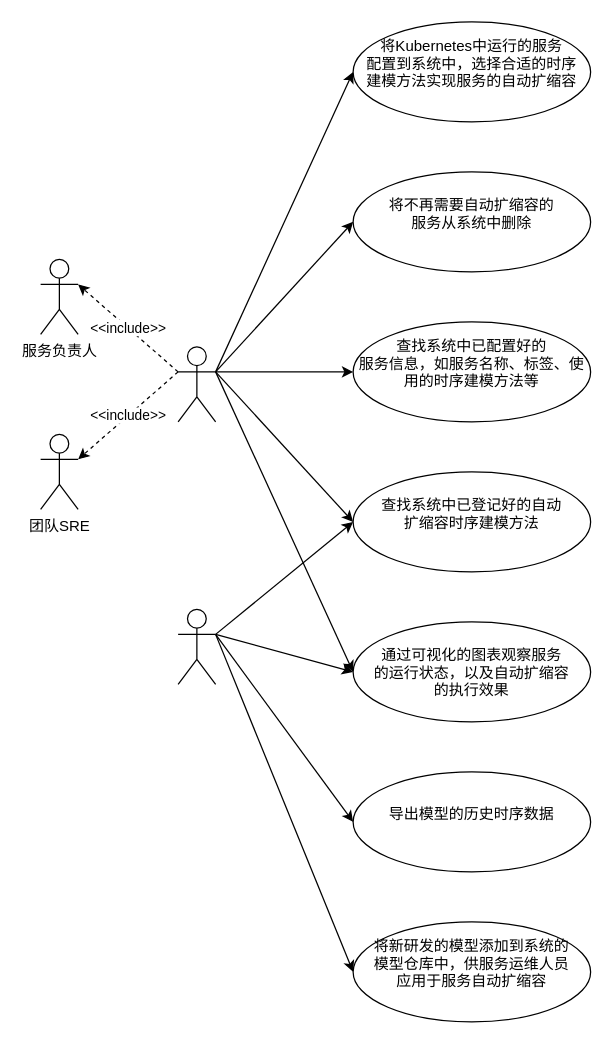
The diagram is 613 pixels wide and 1044 high, and some of its shapes have lost their labels. The shapes that lost their labels are listed below. From the top down, each one's centre as x and y in pixels, then its label:
At point 196,384: "运维人员".
At point 196,646: "算法工程师".
